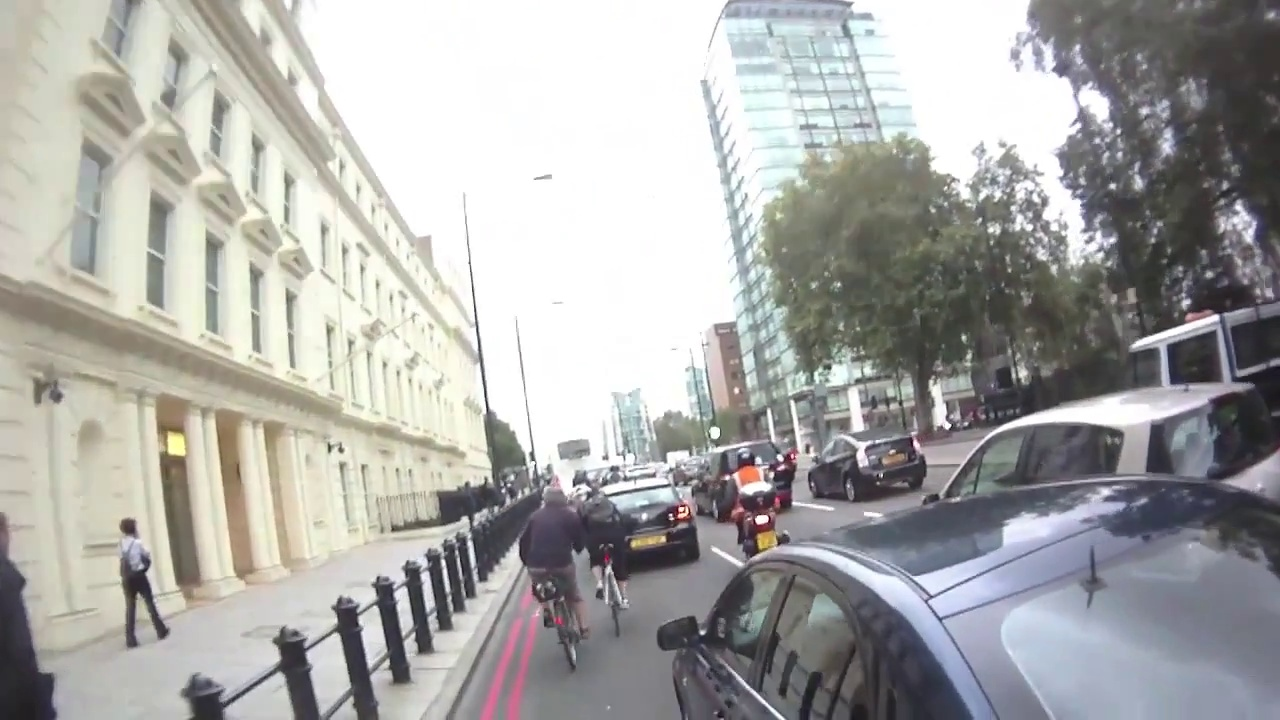cyclist_back: (520, 478, 591, 671), (706, 445, 793, 583), (573, 476, 640, 643)
